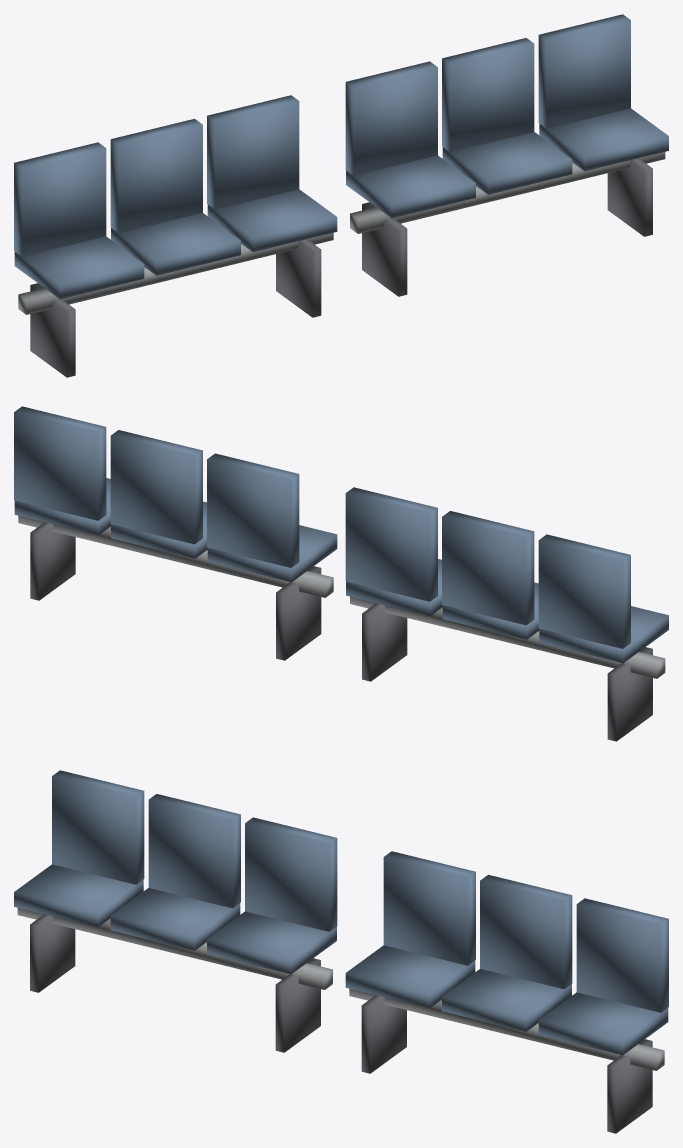
The model's file is waiting_chair_beam_row__cluster.glb.
3 renders of one model, top to bottom at view 1: azimuth 30°, elevation 25°; view 2: azimuth 150°, elevation 25°; view 3: azimuth 330°, elevation 25°, orthographic.
Visible parts, largest first — view 1: world; view 2: world; view 3: world.
Boxes of the visible parts, bbox=[...] form: world: bbox=[14, 14, 668, 377]; world: bbox=[14, 406, 668, 741]; world: bbox=[14, 770, 668, 1133].
Bounding box in the file's own units: 3.64 × 1.02 × 0.455.
